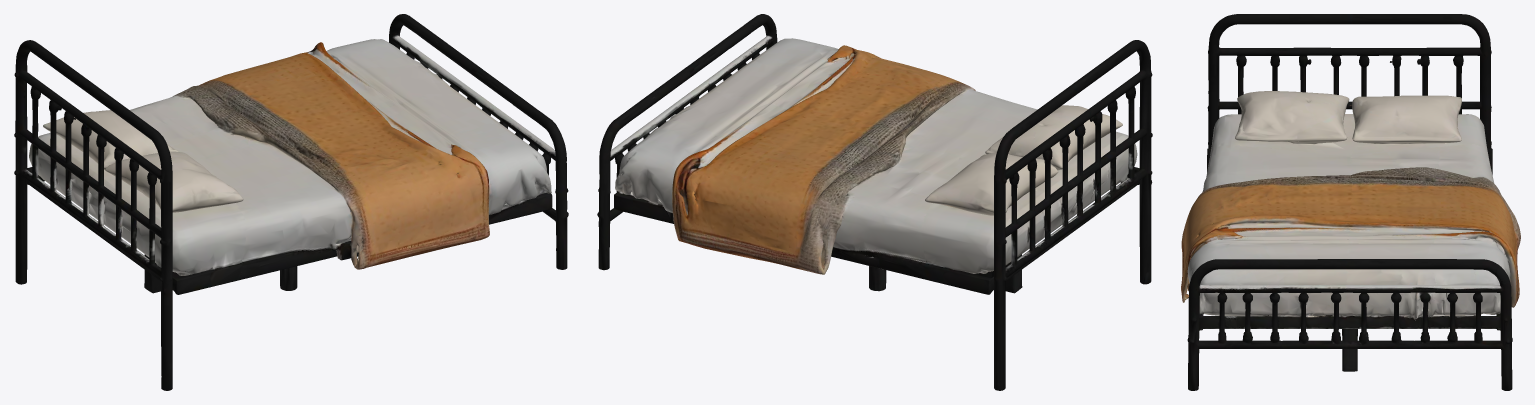
File: B0F596KXP2.glb
3 renders of one model, left to right at view 1: azimuth 30°, elevation 25°; view 2: azimuth 150°, elevation 25°; view 3: azimuth 270°, elevation 25°, orthographic. The views are drawn at different scales.
Visible parts, largest first — view 1: tripo_node_aa8eadae-c9d4-4dd9-b688-bdbd9dfdfa2d; view 2: tripo_node_aa8eadae-c9d4-4dd9-b688-bdbd9dfdfa2d; view 3: tripo_node_aa8eadae-c9d4-4dd9-b688-bdbd9dfdfa2d.
Boxes of the visible parts, x1,y1,x2,y2 form: tripo_node_aa8eadae-c9d4-4dd9-b688-bdbd9dfdfa2d: (14, 14, 568, 390); tripo_node_aa8eadae-c9d4-4dd9-b688-bdbd9dfdfa2d: (597, 14, 1152, 390); tripo_node_aa8eadae-c9d4-4dd9-b688-bdbd9dfdfa2d: (1181, 14, 1520, 390).
Bounding box in the file's own units: 0.9999 × 0.6005 × 0.7944.
1 material, 1 textured.
